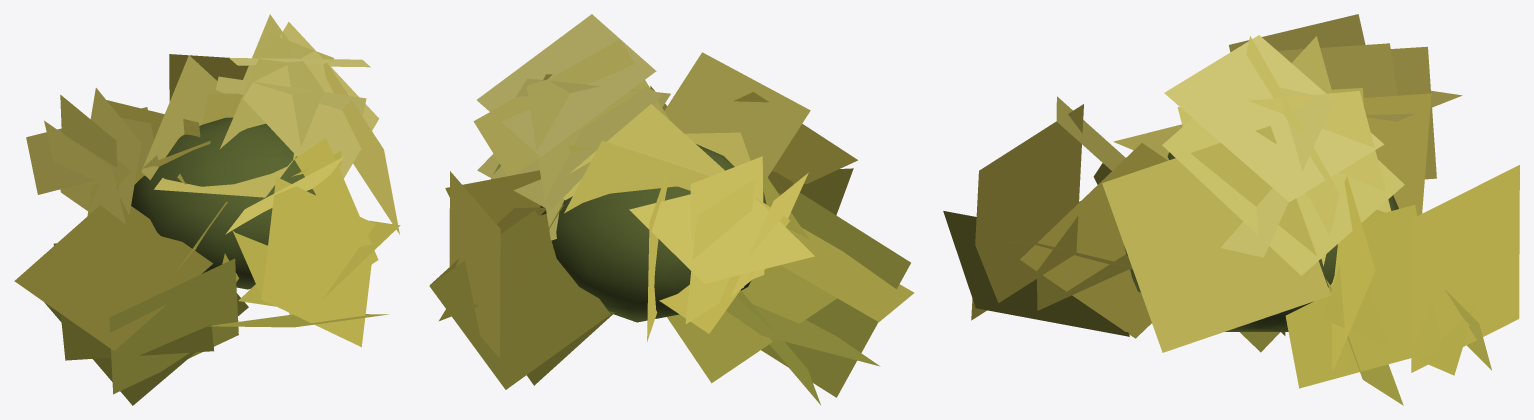
File: bush_golden.glb
3 views of the same model, side by side, from view 1: azimuth 30°, elevation 25°; view 2: azimuth 150°, elevation 25°; view 3: azimuth 270°, elevation 25° (orthographic). The views are drawn at different scales.
Parts seen in each view (by area): view 1: Leaves, Bush; view 2: Leaves, Bush; view 3: Leaves, Bush.
Part boxes in pixels (bbox=[...]): Leaves: bbox=[14, 14, 400, 405]; Bush: bbox=[131, 117, 315, 289]; Leaves: bbox=[429, 14, 914, 404]; Bush: bbox=[540, 144, 766, 322]; Leaves: bbox=[943, 14, 1519, 405]; Bush: bbox=[1124, 152, 1398, 331].
Size of the model in its own units: 1.35 by 1.12 by 1.45.
